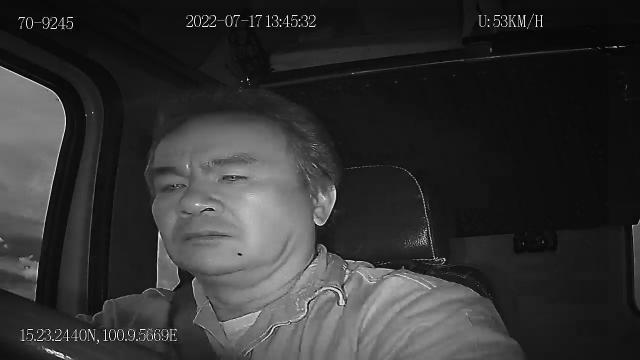SafeDriving: (209, 163, 259, 190), (150, 172, 194, 197)
Seatbelt: (172, 282, 220, 360)
